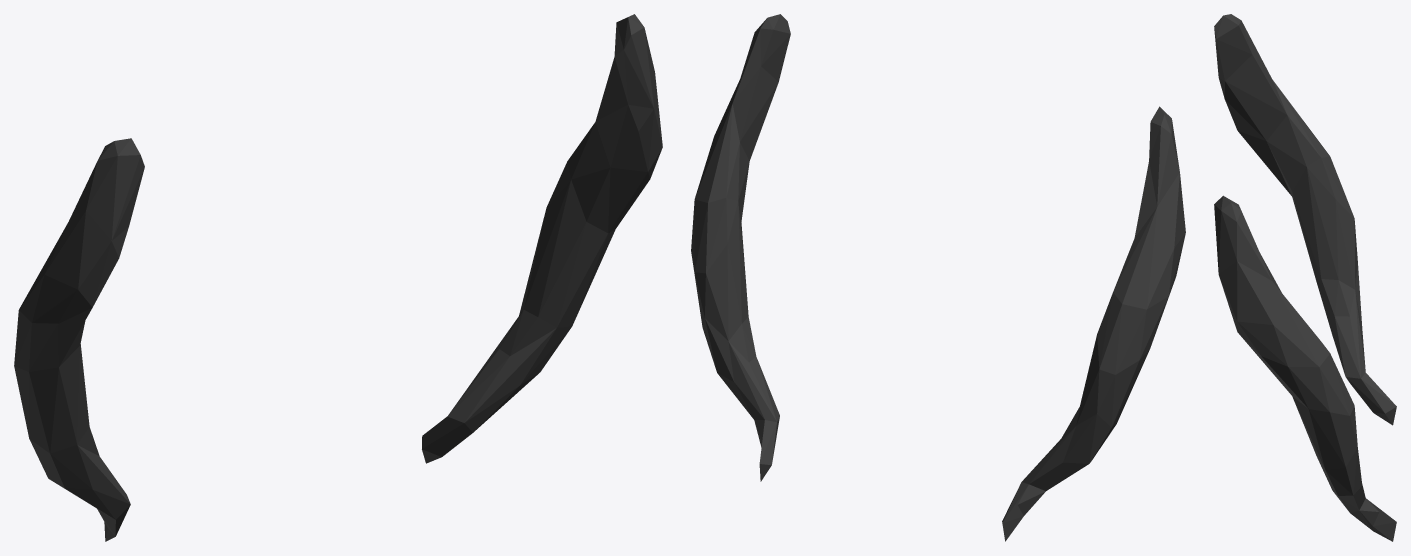
The model's file is m_brachialis.glb.
3 views of the same model, side by side, from view 1: azimuth 30°, elevation 25°; view 2: azimuth 150°, elevation 25°; view 3: azimuth 270°, elevation 25° (orthographic). The views are drawn at different scales.
Parts seen in each view (by area): view 1: m_brachialis; view 2: m_brachialis; view 3: m_brachialis.
Part boxes in pixels (box(x1,y1,x2,y2)): m_brachialis: box(14, 14, 662, 541); m_brachialis: box(691, 14, 1185, 541); m_brachialis: box(1214, 14, 1396, 541).
Bounding box in the file's own units: 0.00609 × 0.00487 × 0.00213.
Materials: 1 (1 with a texture image).
